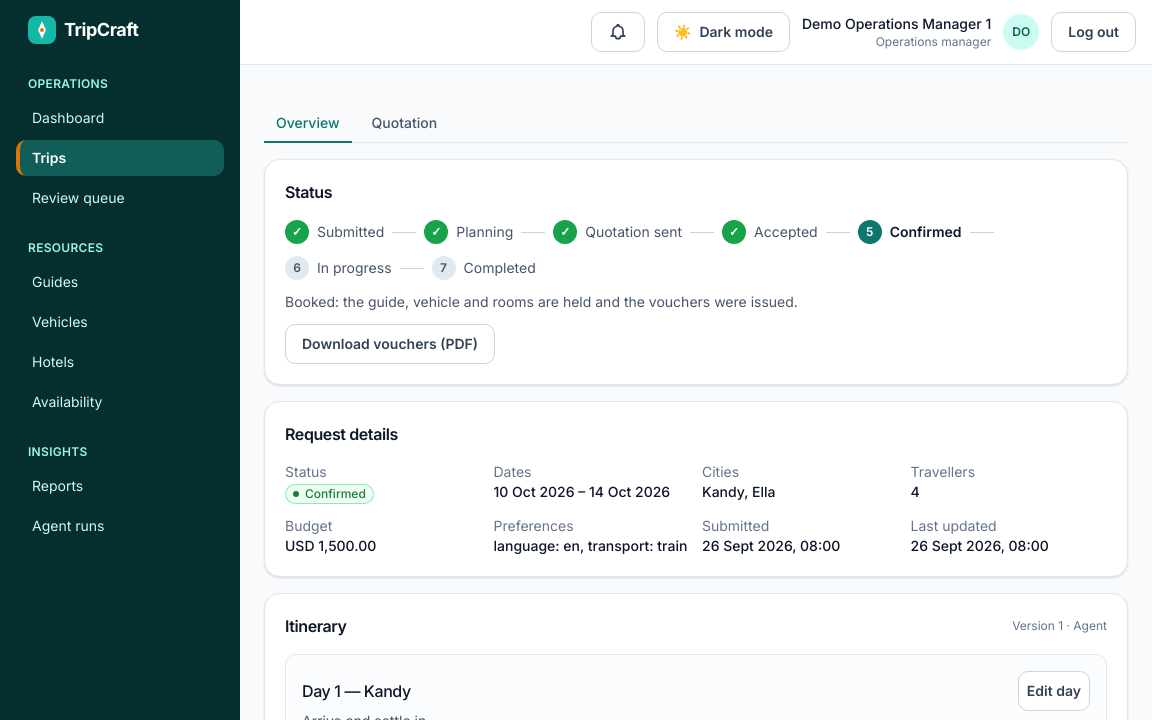
Test: Itinerary editor › lists the city attractions with the current stops ticked and allows at most 3
Click the button with aria-label "Edit day 1".
click(1054, 691)  # box [1018, 671, 1090, 711]
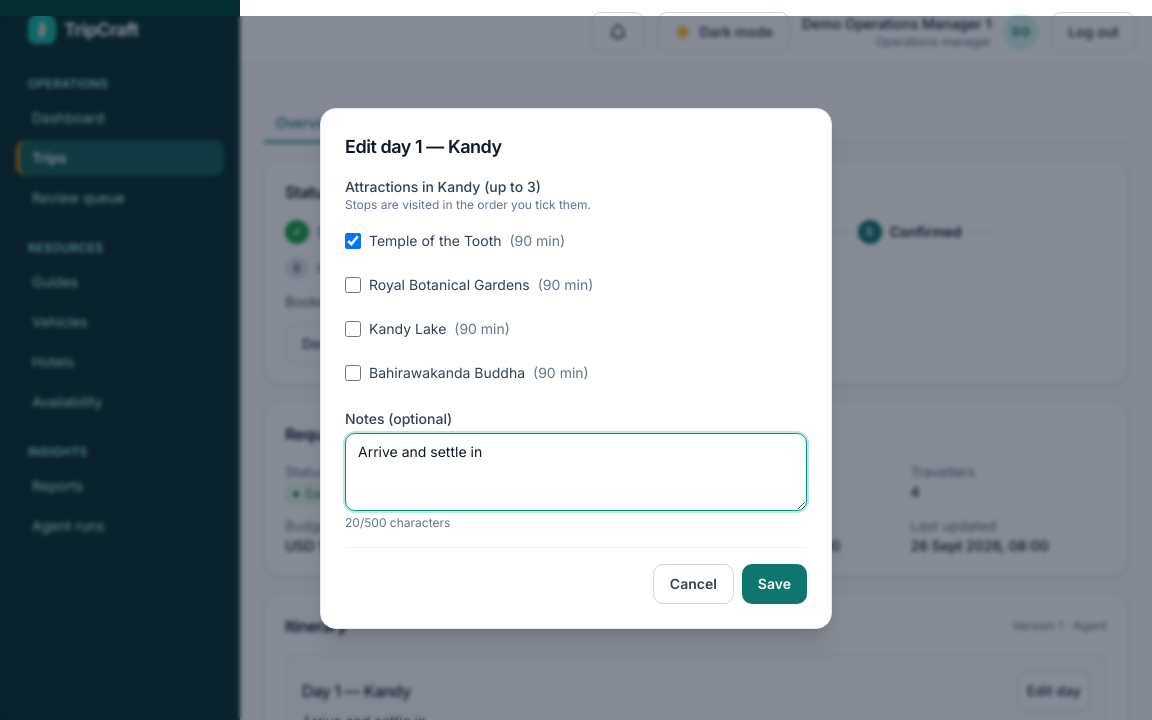
Expected: the checkbox labelled "Temple of the Tooth (90 min)" is checked, [345, 232, 361, 248]
Expected: the text box labelled "Notes (optional)" holds "Arrive and settle in", [345, 432, 807, 510]
Click the checkbox labelled "Royal Botanical Gardens (90 min)".
click(353, 284)  # box [345, 276, 361, 292]
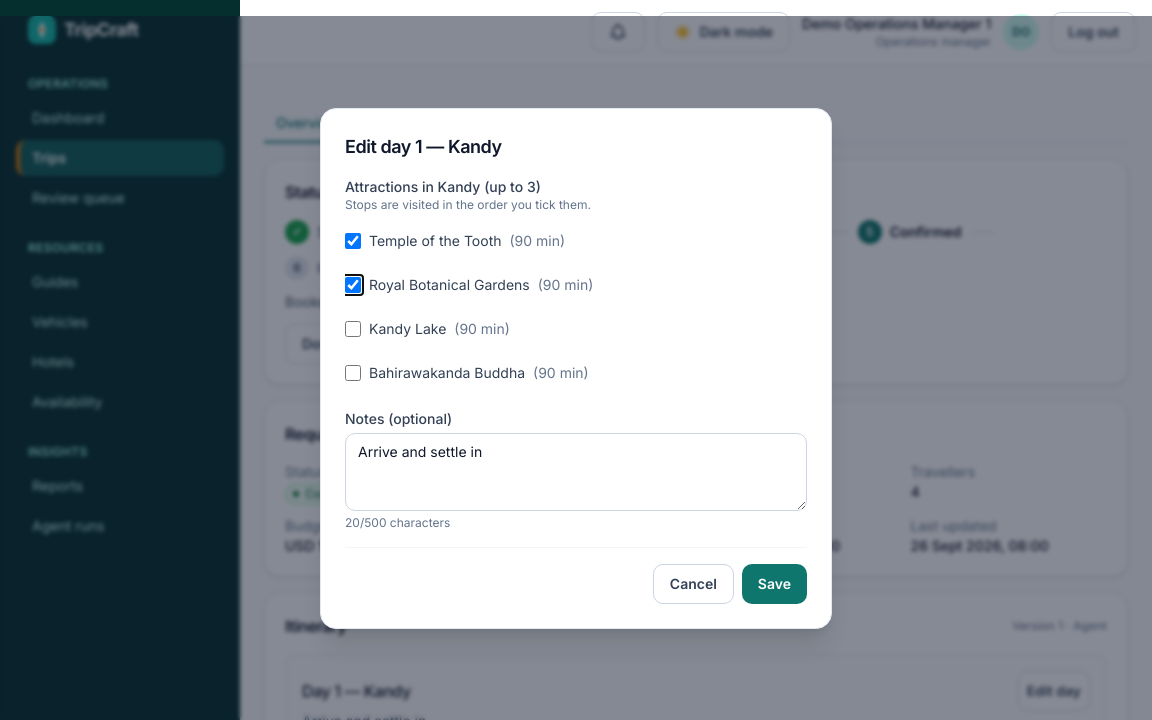
Click the checkbox labelled "Kandy Lake (90 min)".
click(353, 328)  # box [345, 320, 361, 336]
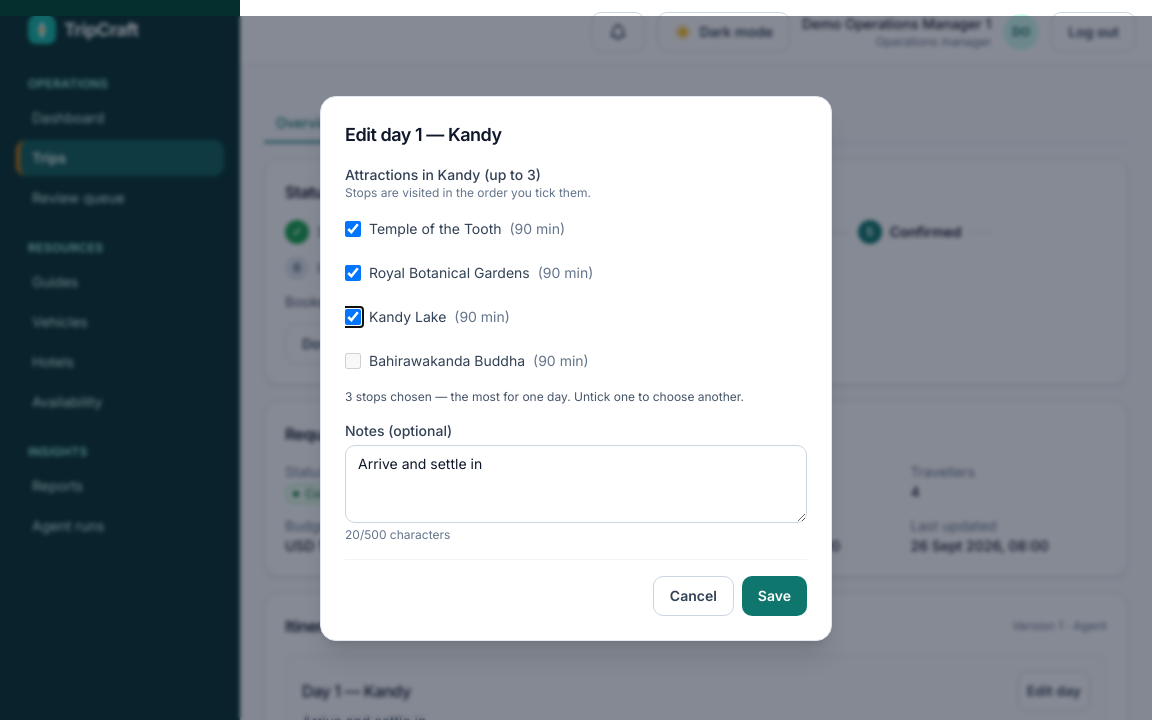
Expected: the text "3 stops chosen — the most for one day" is shown, [345, 388, 807, 404]
Expected: the checkbox labelled "Bahirawakanda Buddha (90 min)" is disabled, [345, 352, 361, 368]
